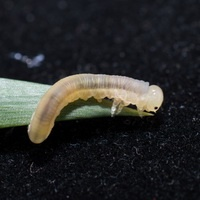insect: (0, 74, 163, 142)
